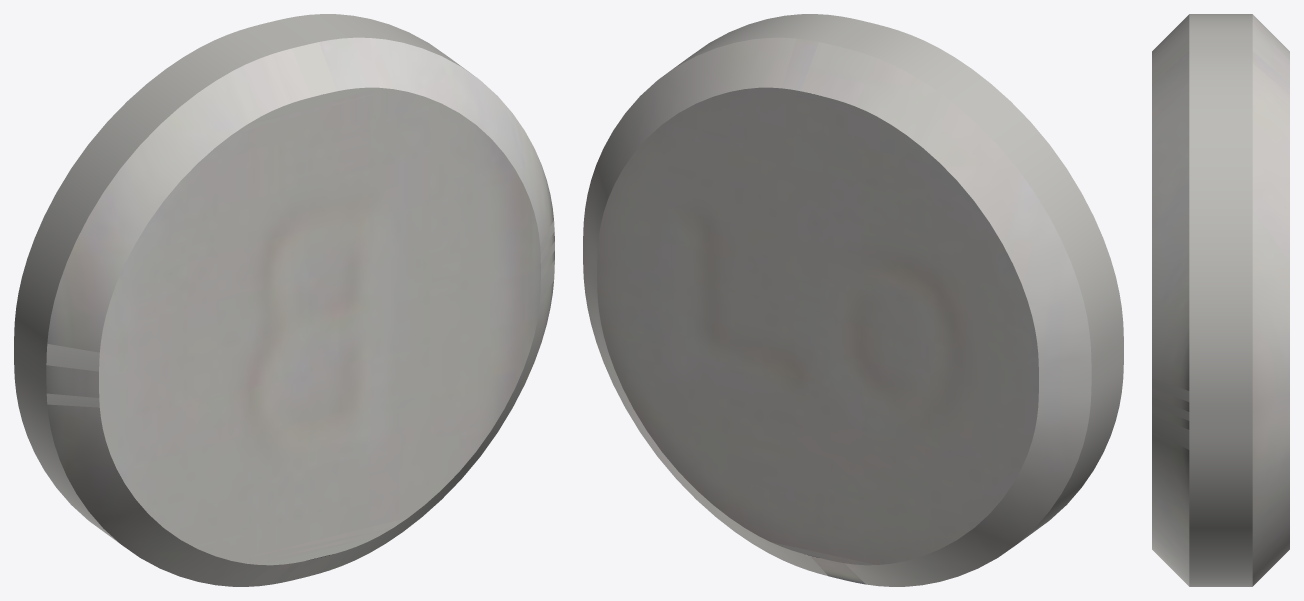
The model's file is 20140311GOPHDRGPT00293.fbx.
3 renders of one model, left to right at view 1: azimuth 30°, elevation 25°; view 2: azimuth 150°, elevation 25°; view 3: azimuth 270°, elevation 25°, orthographic. The views are drawn at different scales.
Parts seen in each view (by area): view 1: NurbsCircle; view 2: NurbsCircle; view 3: NurbsCircle.
Boxes of the visible parts, bbox=[...] form: NurbsCircle: bbox=[14, 14, 554, 586]; NurbsCircle: bbox=[583, 14, 1123, 586]; NurbsCircle: bbox=[1152, 14, 1289, 586].
Size of the model in its own units: 5.94 by 5.94 by 1.43.
2 materials, 1 textured.
